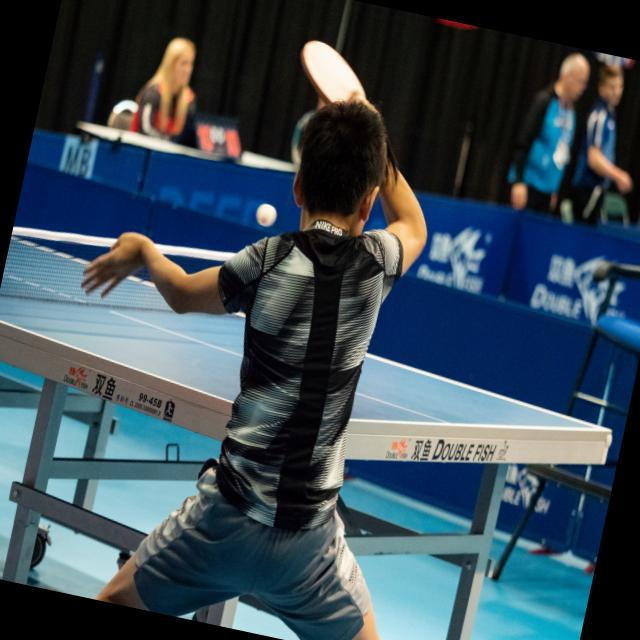TT Net: (0, 223, 237, 320)
TT Racket: (284, 34, 395, 142)
TT Table: (0, 208, 603, 537)
